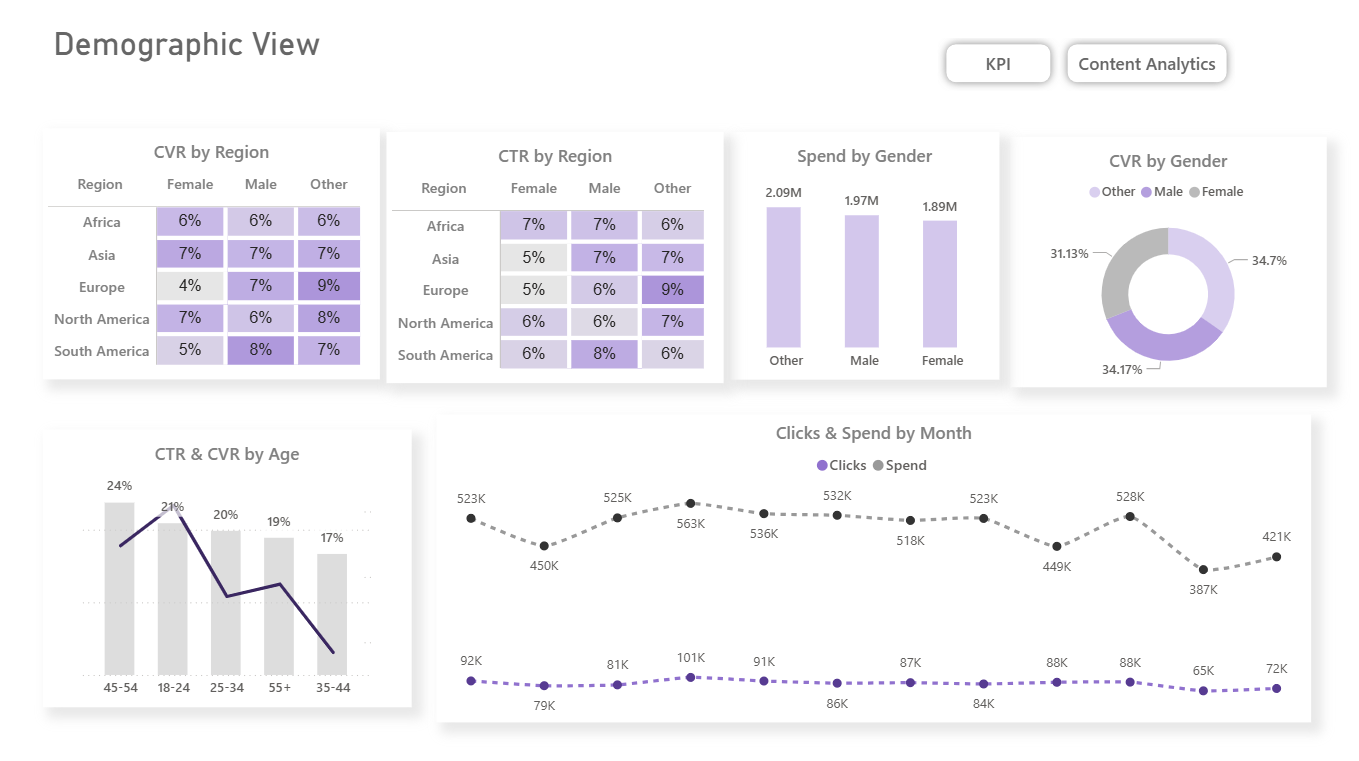

This screenshot's page, from the dashboard's own definition file:
{"tool":"powerbi","page":{"name":"Demographic","canvas":[1280,720],"ordinal":1},"visuals":[{"type":"donutChart","title":"CVR by Gender","fields":{"Y":["Sum(Sheet1.Conversion_Rate)"],"Category":["Sheet1.Target_Gender"]},"box":[950,134.9,294.2,232.6],"z":0},{"type":"pivotTable","title":"CVR by Region","fields":{"Rows":["Sheet1.Region"],"Columns":["Sheet1.Target_Gender"],"Values":["Sum(Sheet1.Conversions)"]},"box":[50,126.7,314,233.7],"z":1000},{"type":"lineStackedColumnComboChart","title":"CTR & CVR by Age","fields":{"Category":["Sheet1.Target_Age"],"Y":["Divide(Sum(Sheet1.CTR), ScopedEval(Sum(Sheet1.CTR), []))"],"Y2":["Divide(Sum(Sheet1.Conversion_Rate), ScopedEval(Sum(Sheet1.Conversion_Rate), []))"]},"box":[50,407,343,258.1],"z":2000},{"type":"columnChart","title":"Spend by Gender","fields":{"Category":["Sheet1.Target_Gender"],"Y":["Sum(Sheet1.Spend)"]},"box":[689.5,130.2,250,230.2],"z":3000},{"type":"lineChart","title":"Clicks & Spend by Month","fields":{"Category":["Sheet1.Date.Variation.Date Hierarchy.Month"],"Y":["Sum(Sheet1.Clicks)","Sum(Sheet1.Spend)"]},"box":[416.3,393,814,286],"z":4000},{"type":"pivotTable","title":"CTR by Region","fields":{"Rows":["Sheet1.Region"],"Columns":["Sheet1.Target_Gender"],"Values":["Sum(Sheet1.CTR)"]},"box":[369.8,130.2,314,233.7],"z":5000},{"type":"card","fields":{"Values":["Sheet1.Demo Title"]},"box":[50,20,268.6,53.5],"z":6000},{"type":"actionButton","box":[882,41,112.8,51.2],"z":7000},{"type":"actionButton","box":[995.4,41,164,51.2],"z":8000}]}

Visuals, with their boxes in screenshot pixels (x1, y1, x2, y2), scaled from the page's 1280x720 canvas onto the 1359x761 screenshot:
"CVR by Gender" donutChart: BBox(1009, 143, 1321, 388)
"CVR by Region" pivotTable: BBox(53, 134, 386, 381)
"CTR & CVR by Age" lineStackedColumnComboChart: BBox(53, 430, 417, 703)
"Spend by Gender" columnChart: BBox(732, 138, 997, 381)
"Clicks & Spend by Month" lineChart: BBox(442, 415, 1306, 718)
"CTR by Region" pivotTable: BBox(393, 138, 726, 385)
card - Sheet1.Demo Title: BBox(53, 21, 338, 78)
actionButton: BBox(936, 43, 1056, 97)
actionButton: BBox(1057, 43, 1231, 97)
